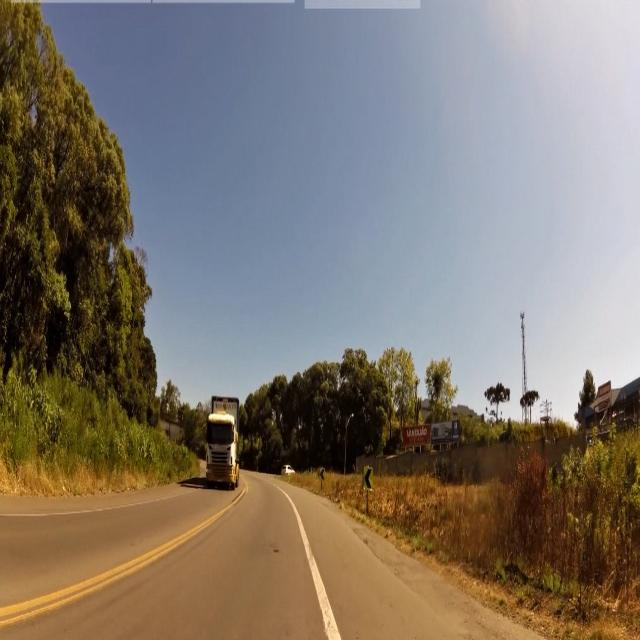Del: (362, 466, 376, 492)
